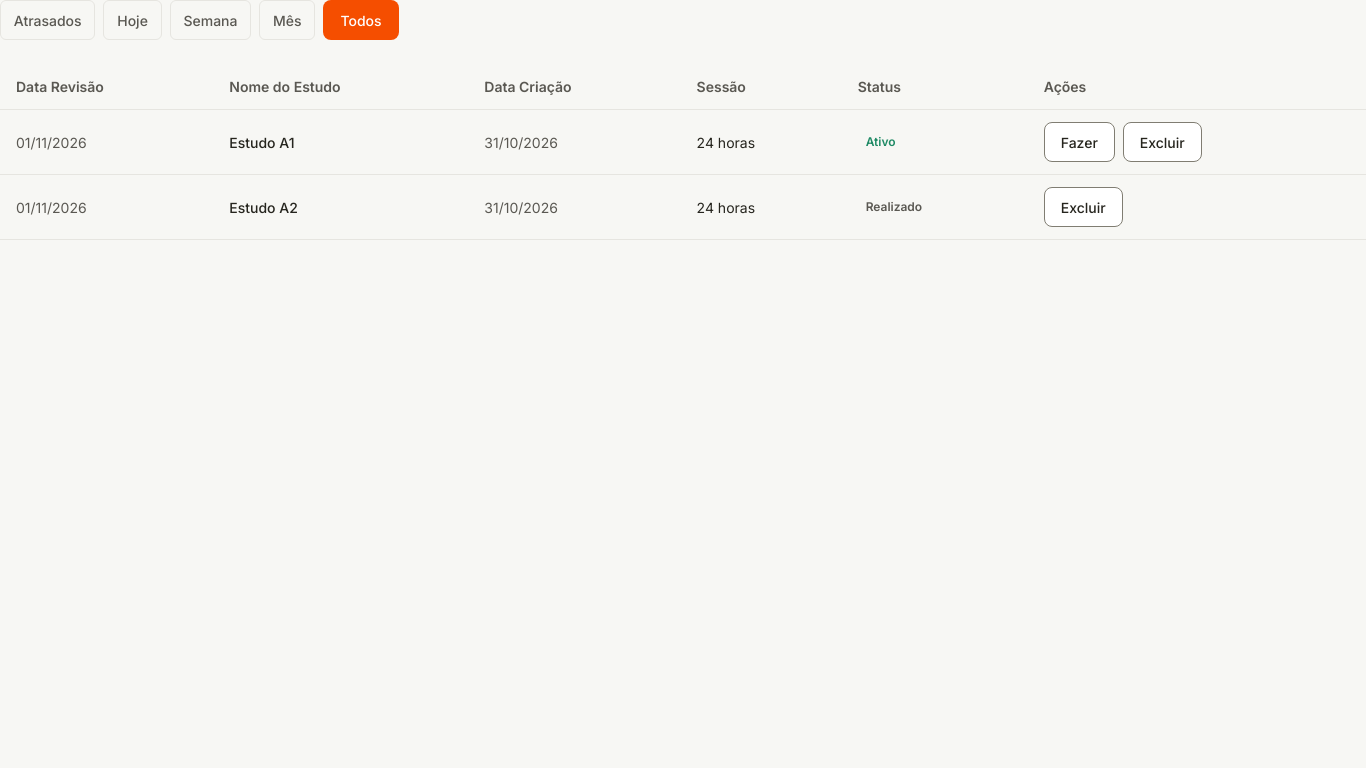
ScheduleList › confirmar apaga o agendamento escolhido, fecha e atualiza a página
This screenshot has width=1366, height=768.
Click the button with aria-label "Excluir agendamento de Estudo A2". click: x=1083, y=207
box: x1=1044 y1=187 x2=1123 y2=227
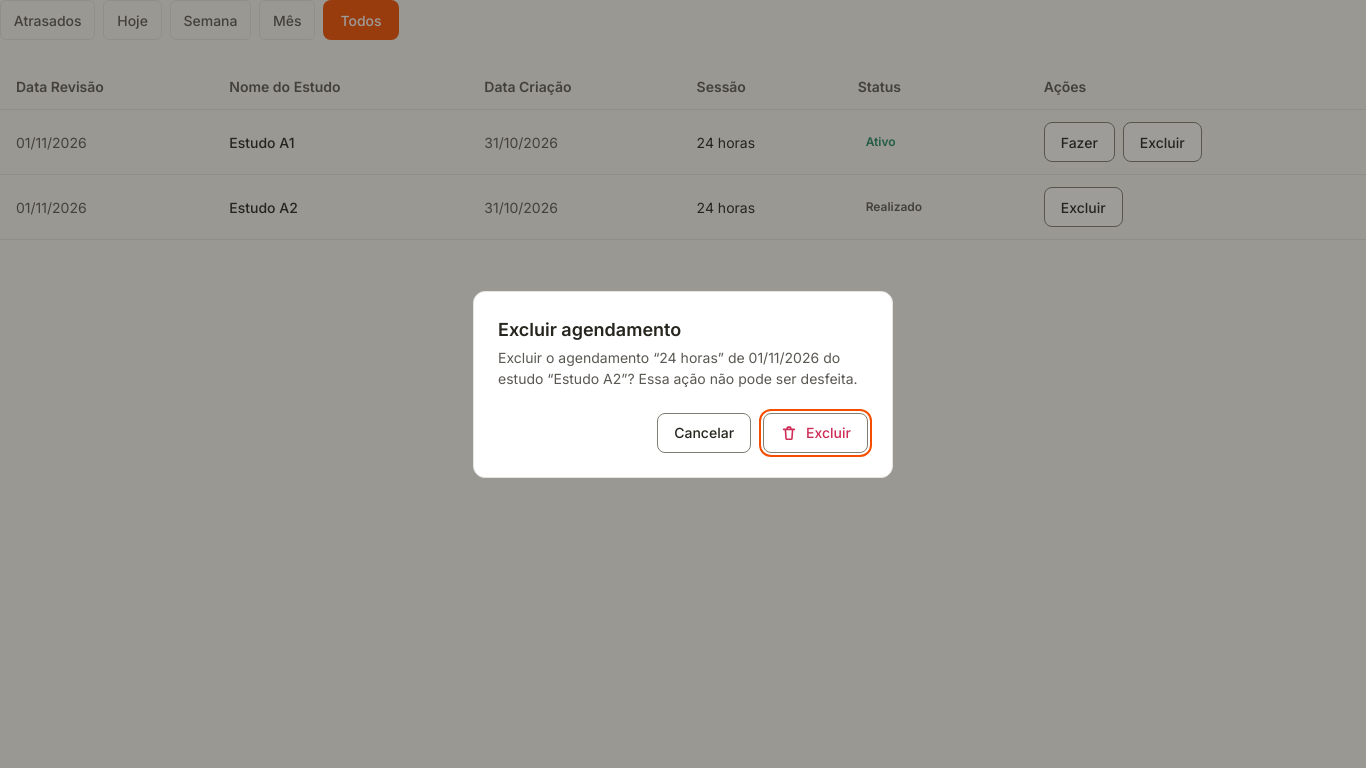
Click the button "Excluir". click: x=816, y=432
box: x1=763 y1=412 x2=868 y2=452
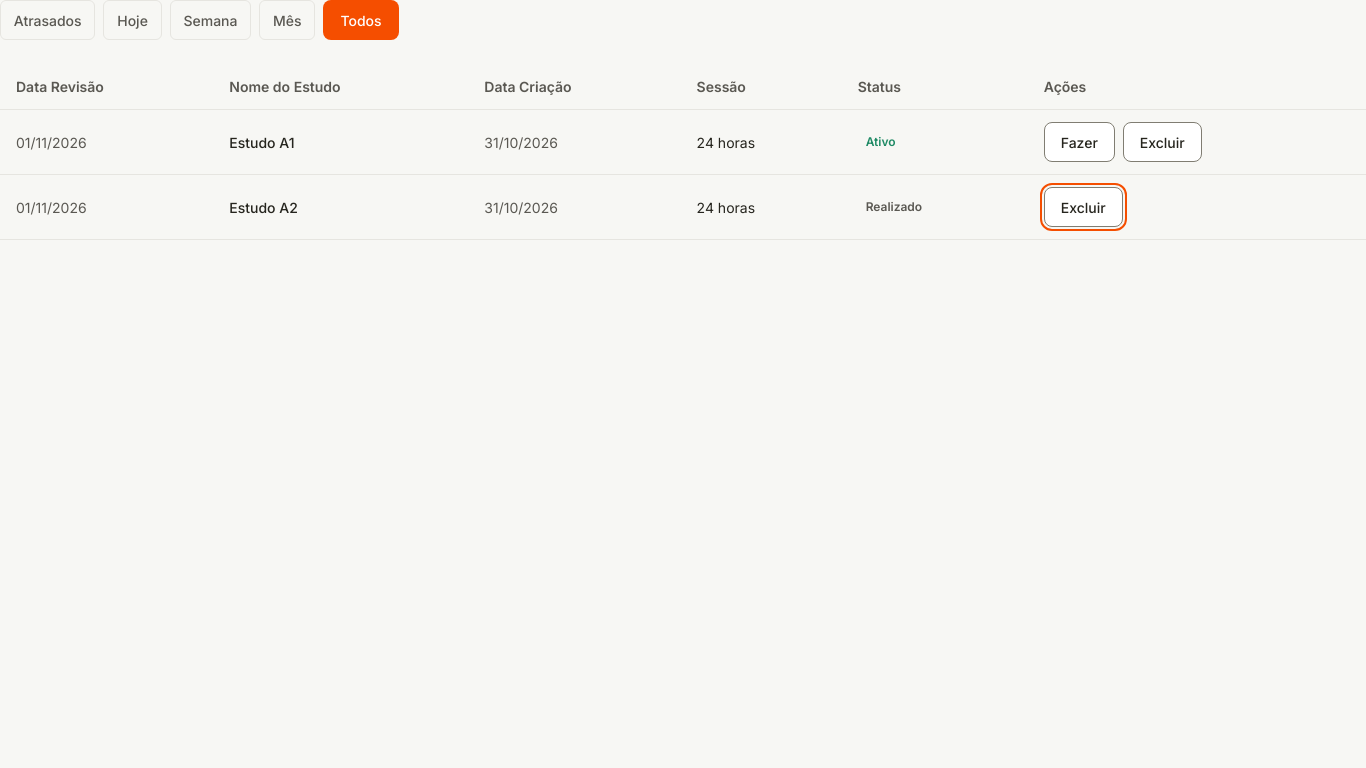
Expected: the dialog is gone
